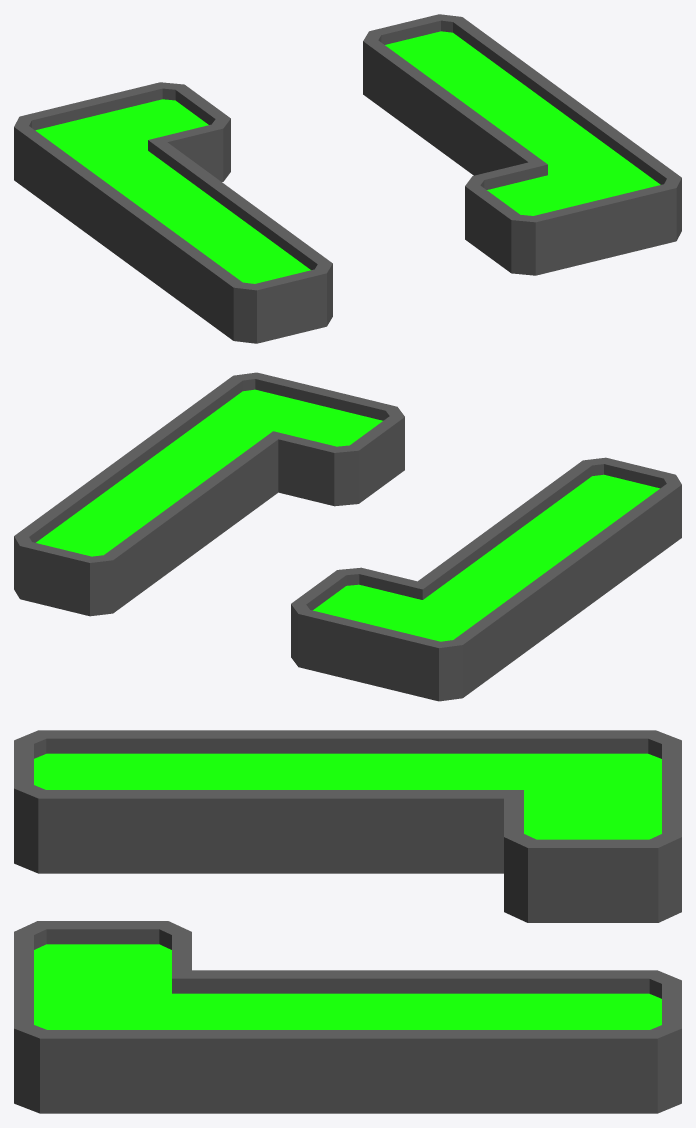
File: Japanese_3D_02_こ.FBX
3 renders of one model, top to bottom at view 1: azimuth 30°, elevation 25°; view 2: azimuth 150°, elevation 25°; view 3: azimuth 270°, elevation 25°, orthographic. The views are drawn at different scales.
Parts seen in each view (by area): view 1: Japanese_3D_02_こ; view 2: Japanese_3D_02_こ; view 3: Japanese_3D_02_こ.
Part boxes in pixels (x1=…): Japanese_3D_02_こ: x1=14, y1=14, x2=681, y2=343; Japanese_3D_02_こ: x1=14, y1=372, x2=681, y2=701; Japanese_3D_02_こ: x1=14, y1=730, x2=681, y2=1113.
Size of the model in its own units: 66.01 by 7.5 by 60.46.
